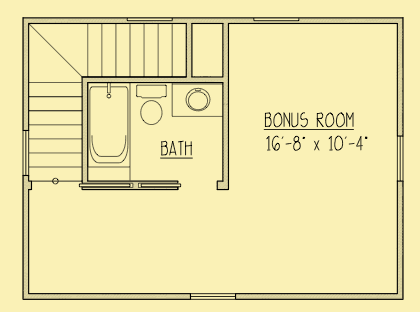large_sink: (133, 84, 169, 127)
small_sink: (170, 82, 222, 121)
stairs: (24, 17, 84, 185), (85, 15, 190, 80)
tub: (87, 80, 131, 171)
window: (395, 133, 405, 182), (187, 292, 236, 300)
